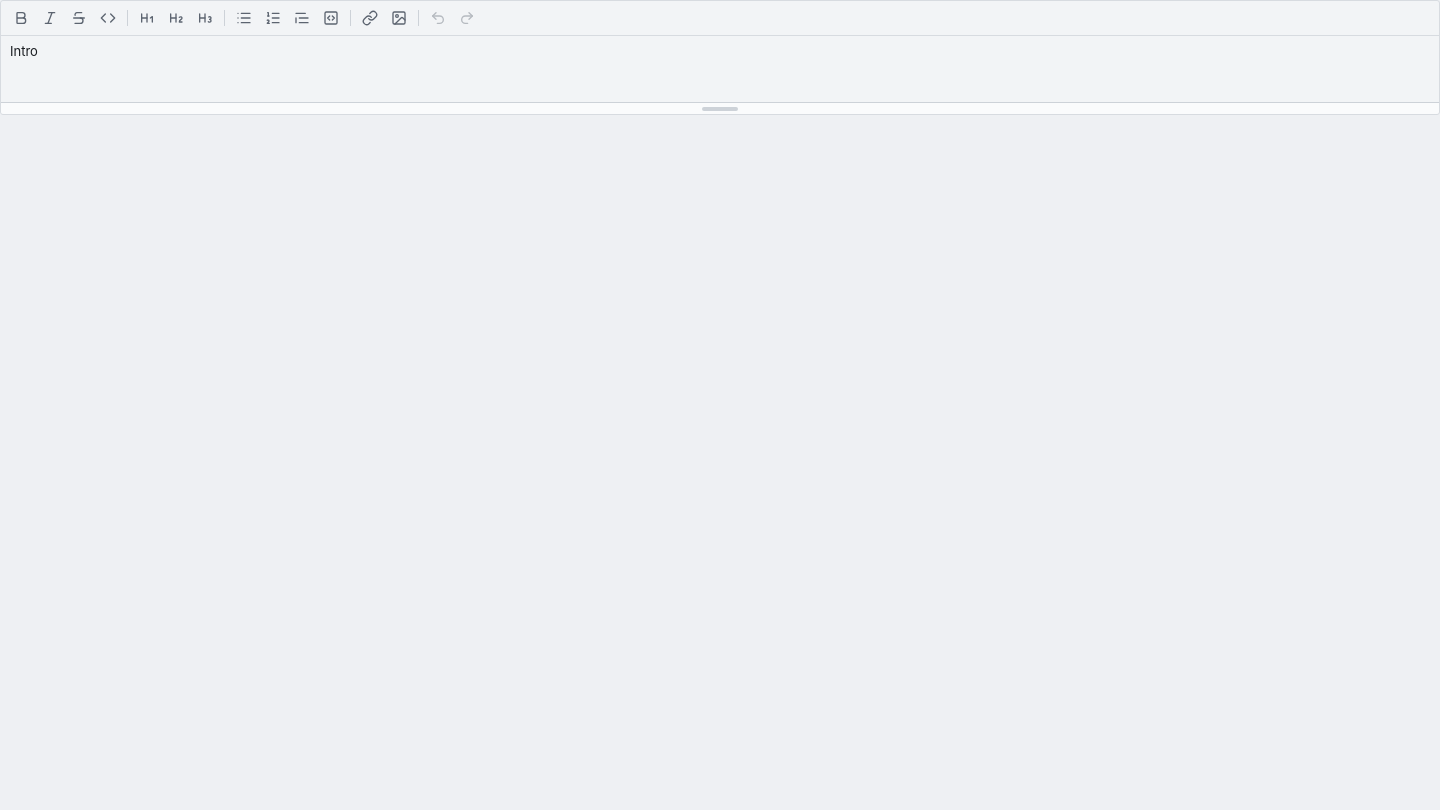
Test case: MarkdownEditor › inserts an image chosen from the library
Click the button named "Insert image".
click(399, 18)  # box [385,5,413,31]
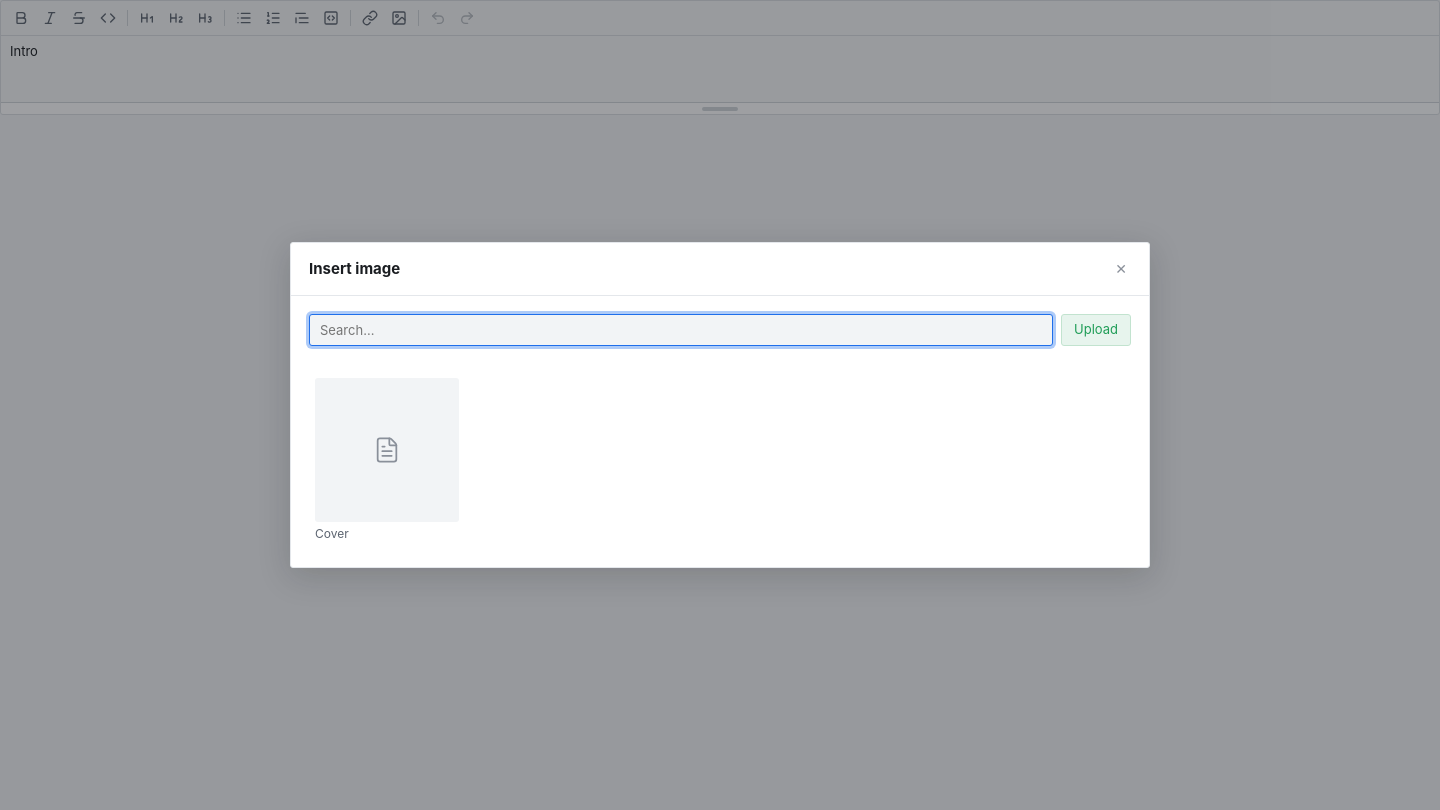
Click the button "Cover".
click(387, 460)  # box [309,372,465,549]
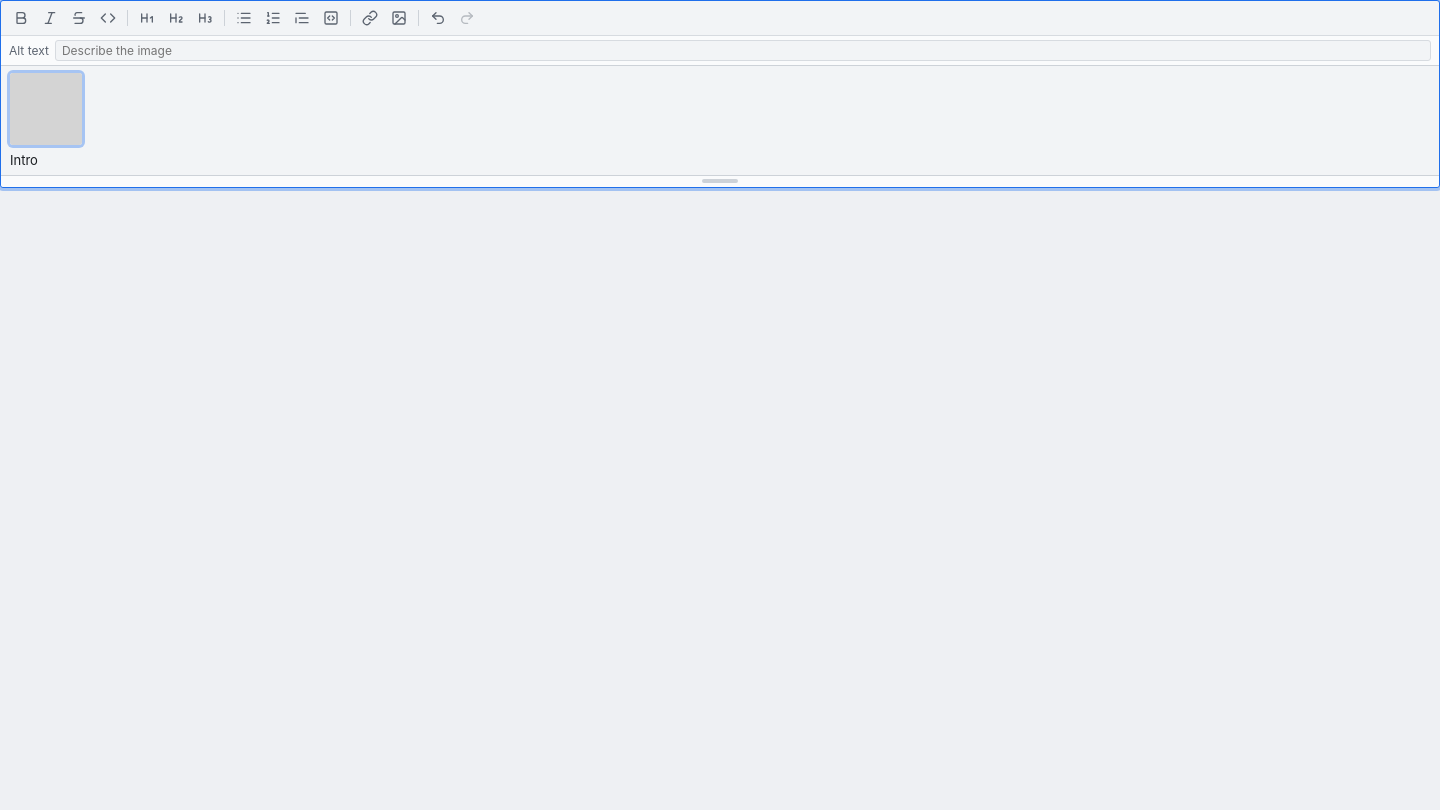
Now the dialog is gone
